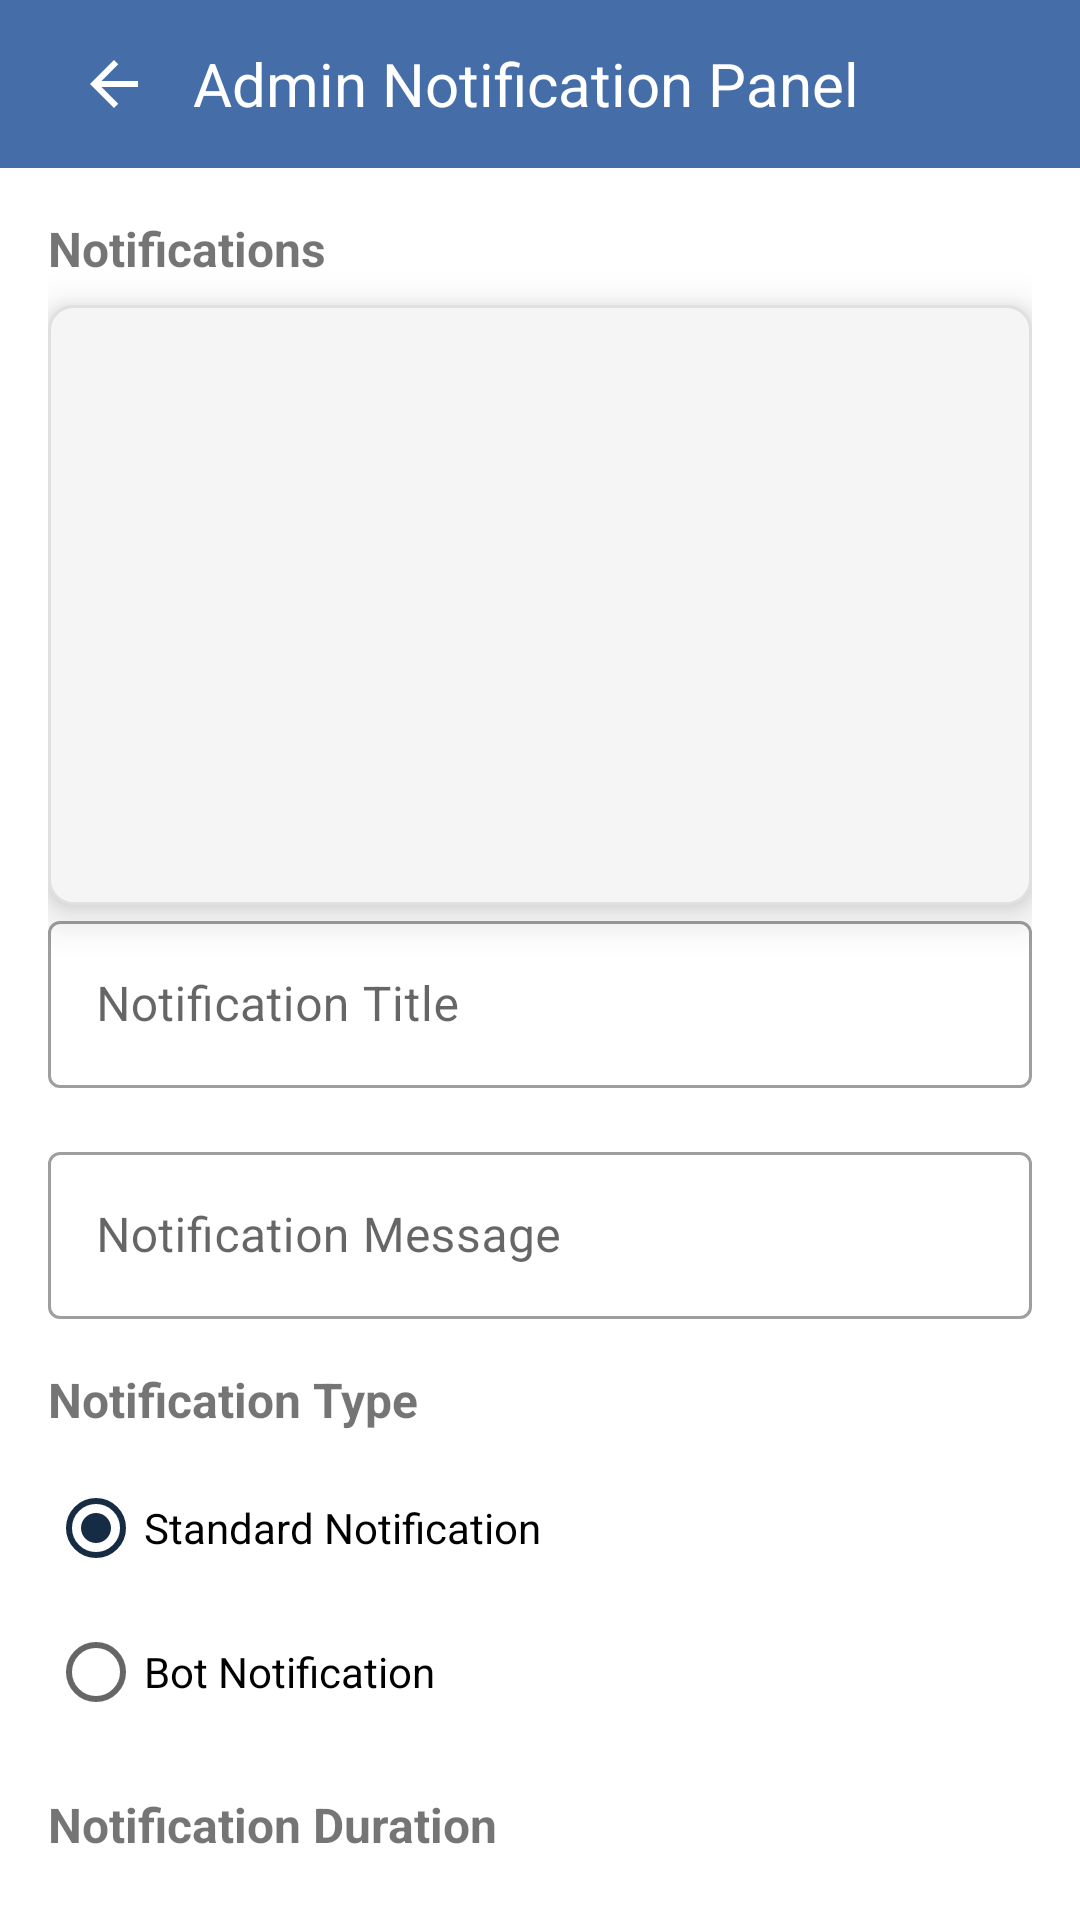

Icon click points for this 1080x1920 phone screenshot, format [x,y]:
back: [114,84]
